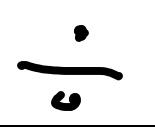div: (17, 25, 123, 111)
